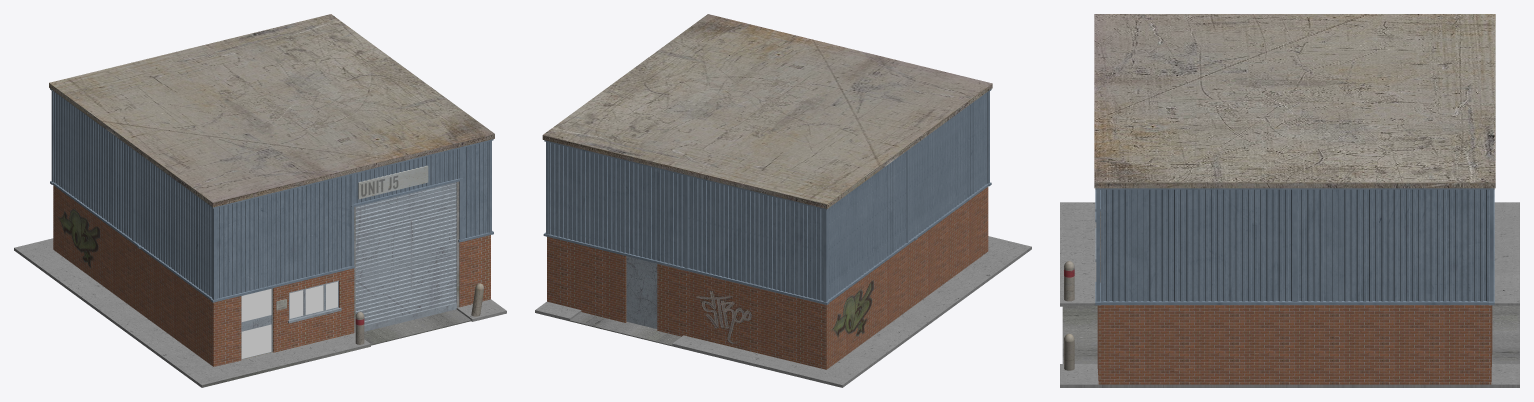
Rendered from factory.glb.
3 views of the same model, side by side, from view 1: azimuth 30°, elevation 25°; view 2: azimuth 150°, elevation 25°; view 3: azimuth 270°, elevation 25° (orthographic). The views are drawn at different scales.
Parts seen in each view (by area): view 1: TheFactory; view 2: TheFactory; view 3: TheFactory.
Boxes of the visible parts, <box> form: TheFactory: <box>14,14,506,387</box>; TheFactory: <box>535,14,1031,387</box>; TheFactory: <box>1060,14,1519,387</box>.
Bounding box in the file's own units: 4.28 × 2.25 × 4.53.
Materials: 14 (13 with a texture image).
